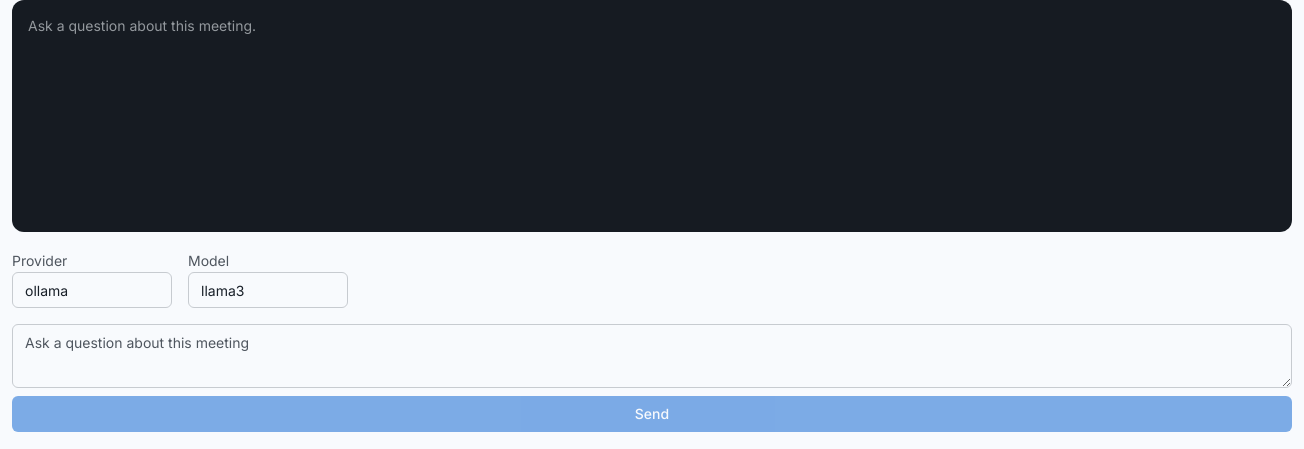
ChatTab › shows an error and keeps the user turn when askChat fails
This screenshot has width=1304, height=449.
In the text box labelled "Ask a question about this meeting": [652, 356] box left=12, top=324, right=1292, bottom=388, type "What happened?"
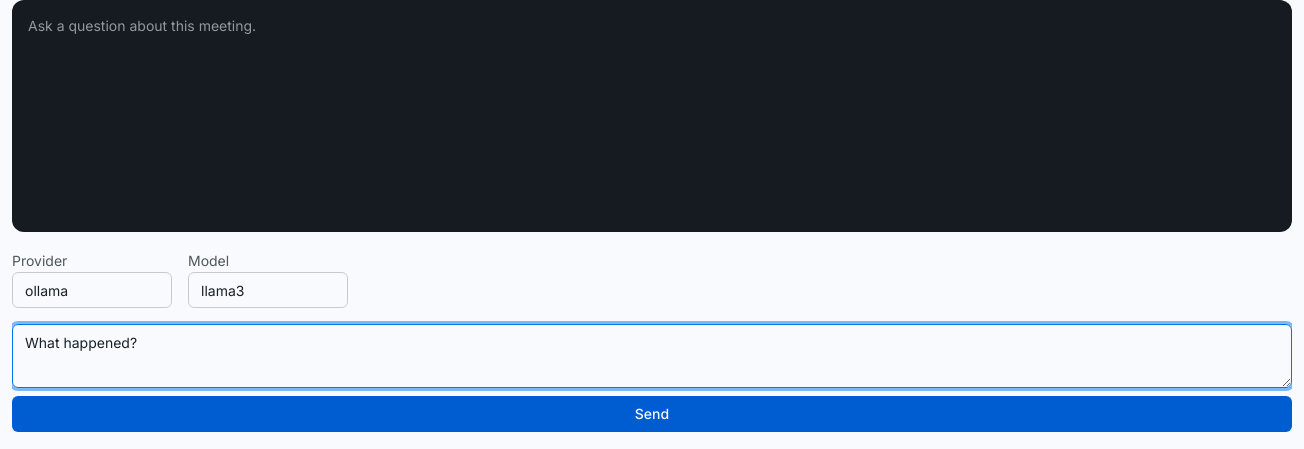
Click the button "Send": [652, 414] box left=12, top=396, right=1292, bottom=432
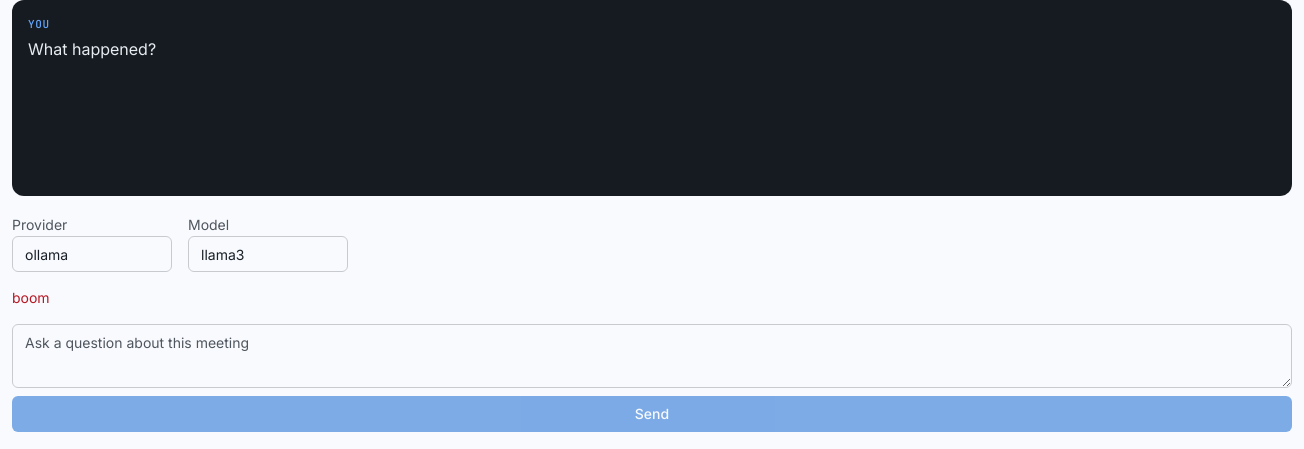
Now the text "What happened?" is shown, box left=28, top=38, right=156, bottom=58
Now the text "boom" is shown, box left=12, top=289, right=50, bottom=306
